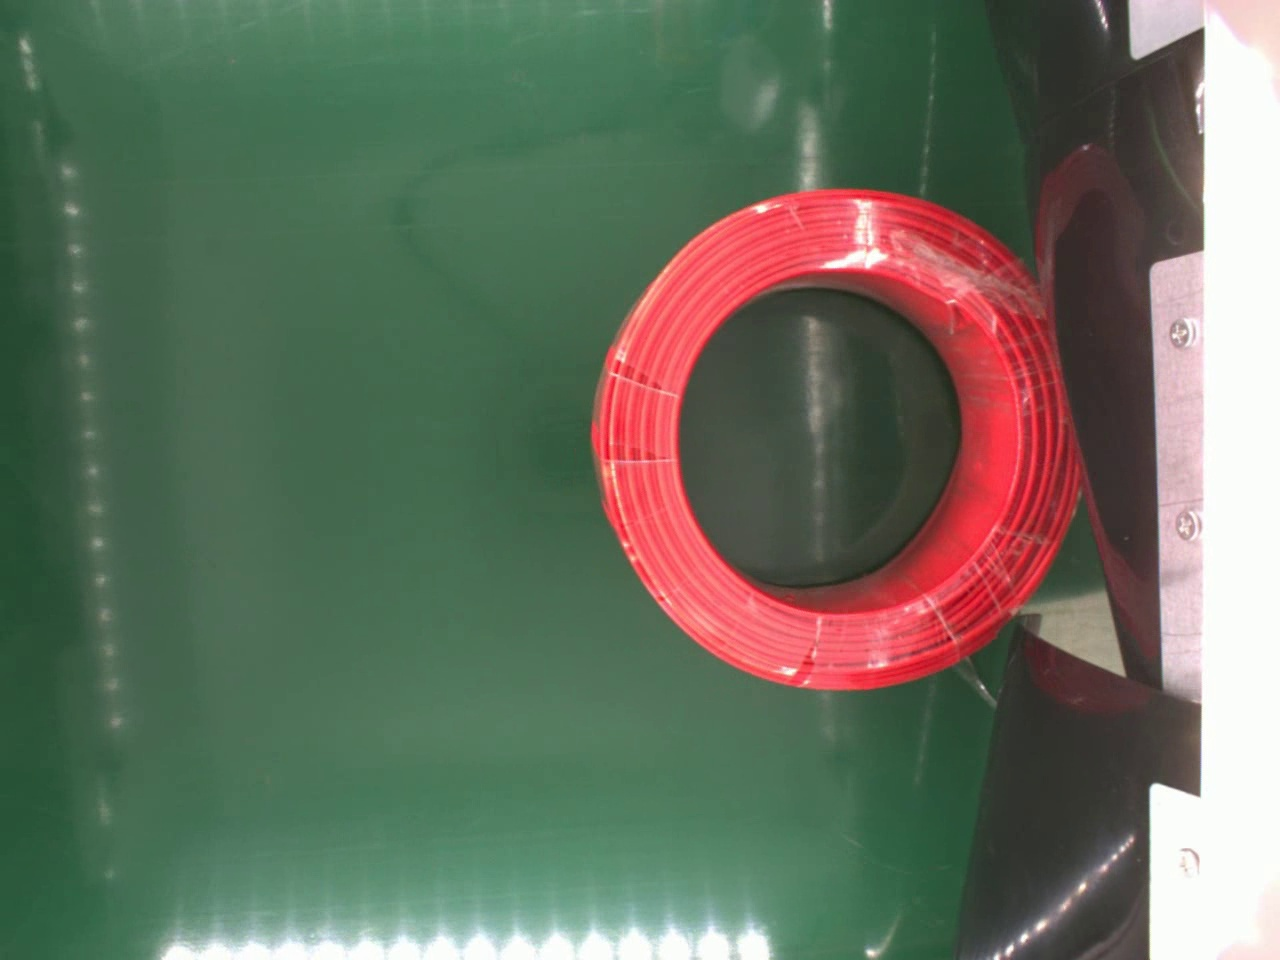red: (589, 186, 1089, 693)
